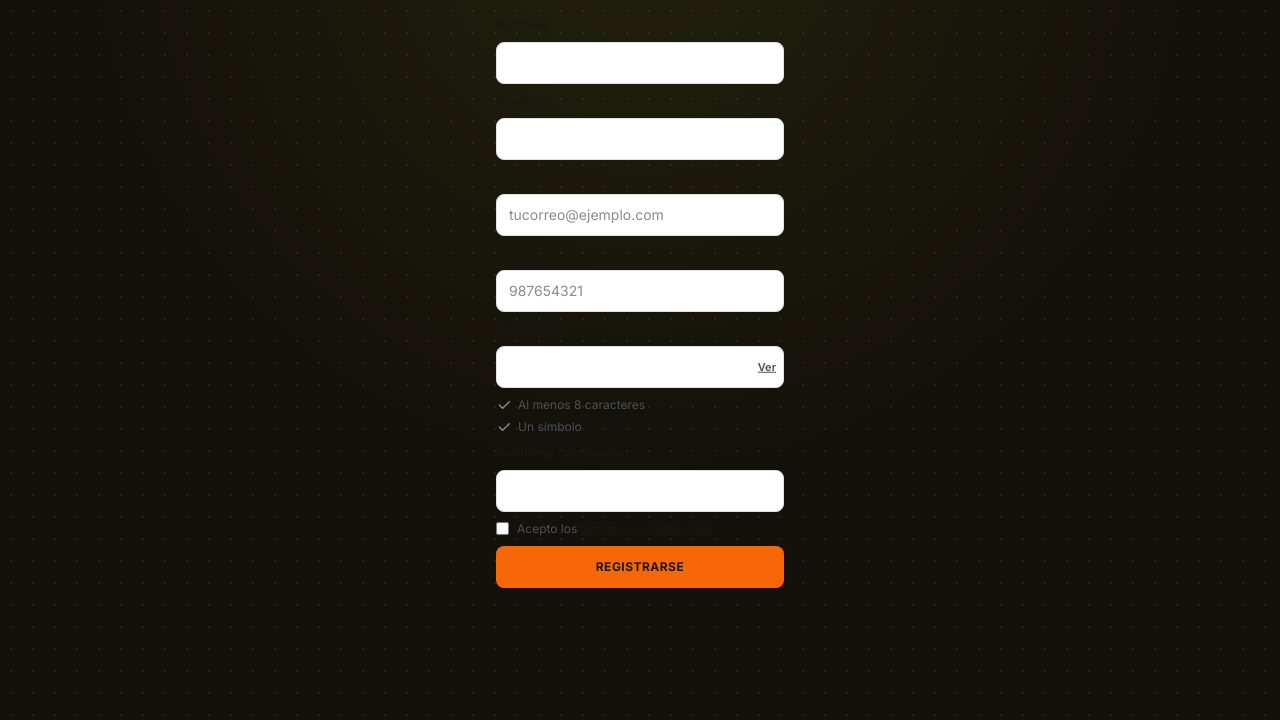
RegistroForm › bloquea el envío si la contraseña no cumple la política cargada
Type "Ana" into the field labelled "Nombres" at x=640, y=63, box [496, 42, 784, 84]
Type "Quispe" into the field labelled "Apellidos" at x=640, y=139, box [496, 118, 784, 160]
Type "ana@ejemplo.com" into the field labelled "Correo" at x=640, y=215, box [496, 194, 784, 236]
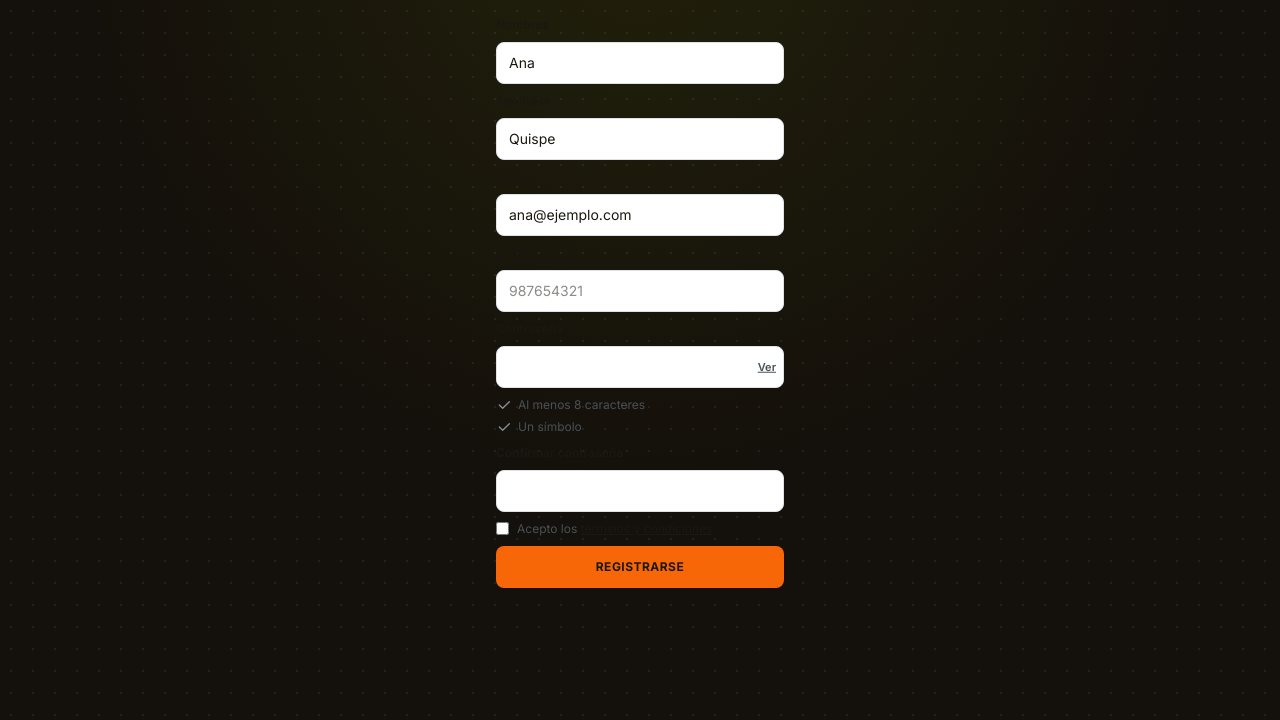
Type "+51987654321" into the field labelled "Celular" at x=640, y=291, box [496, 270, 784, 312]
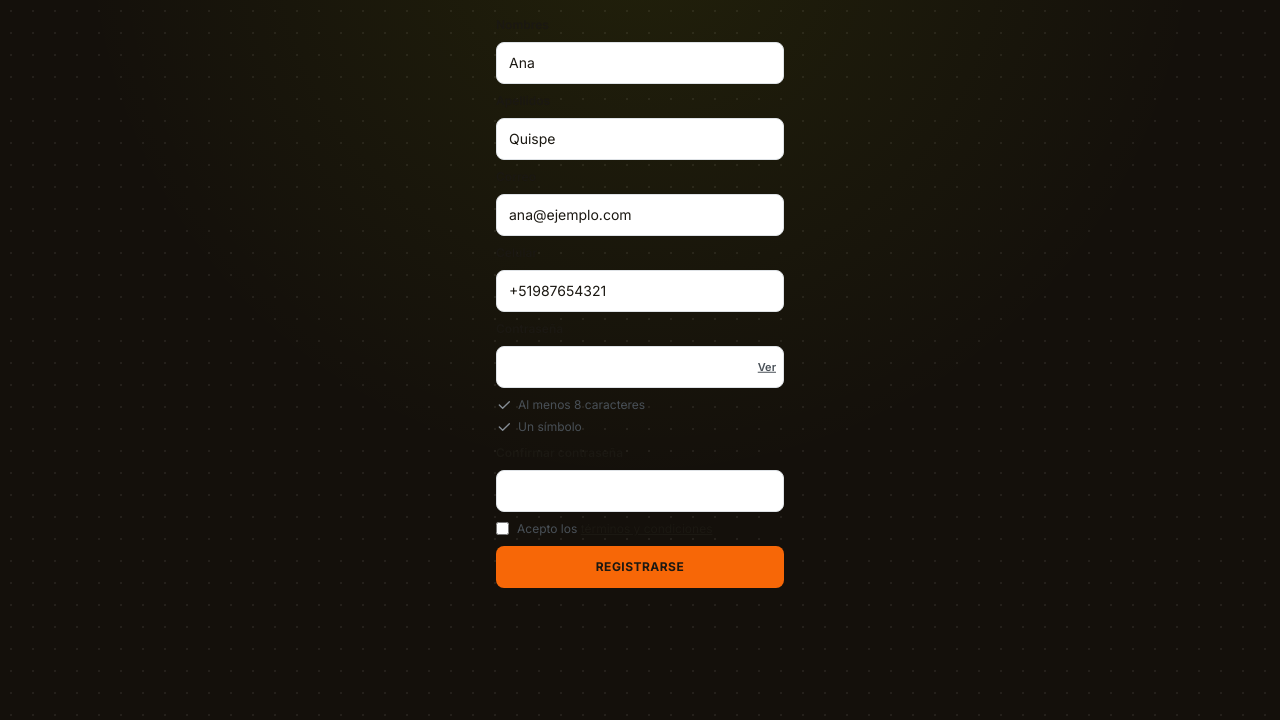
Type "secreto123" into the password field labelled "Contraseña" at x=640, y=367, box [496, 346, 784, 388]
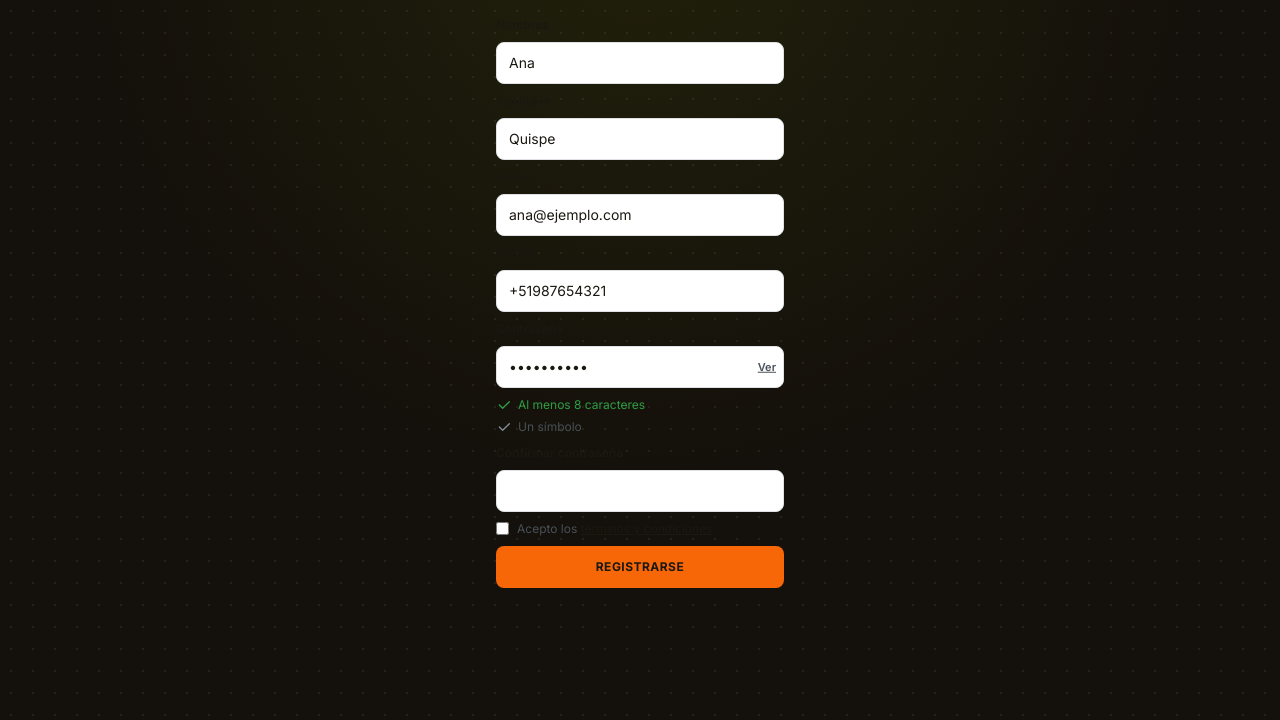
Type "secreto123" into the password field labelled "Confirmar contraseña" at x=640, y=491, box [496, 470, 784, 512]
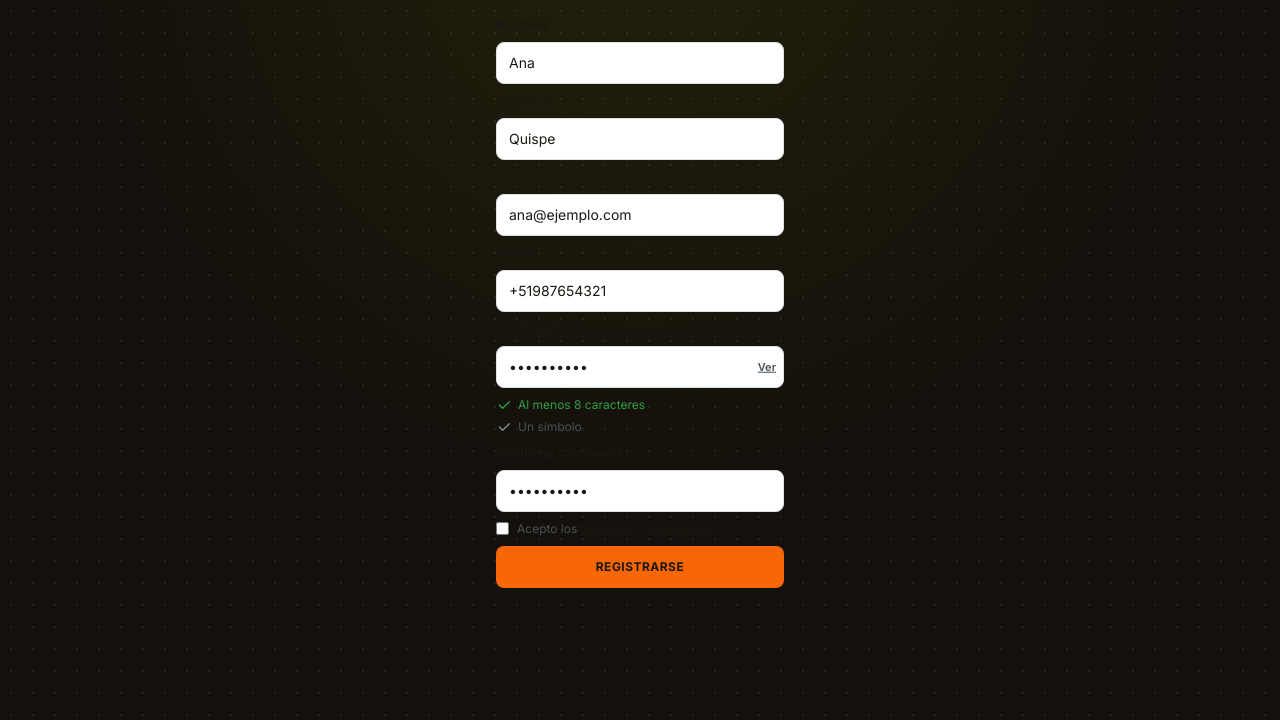
Click the checkbox labelled "Acepto los términos y condiciones" at x=502, y=528, box [496, 522, 509, 535]
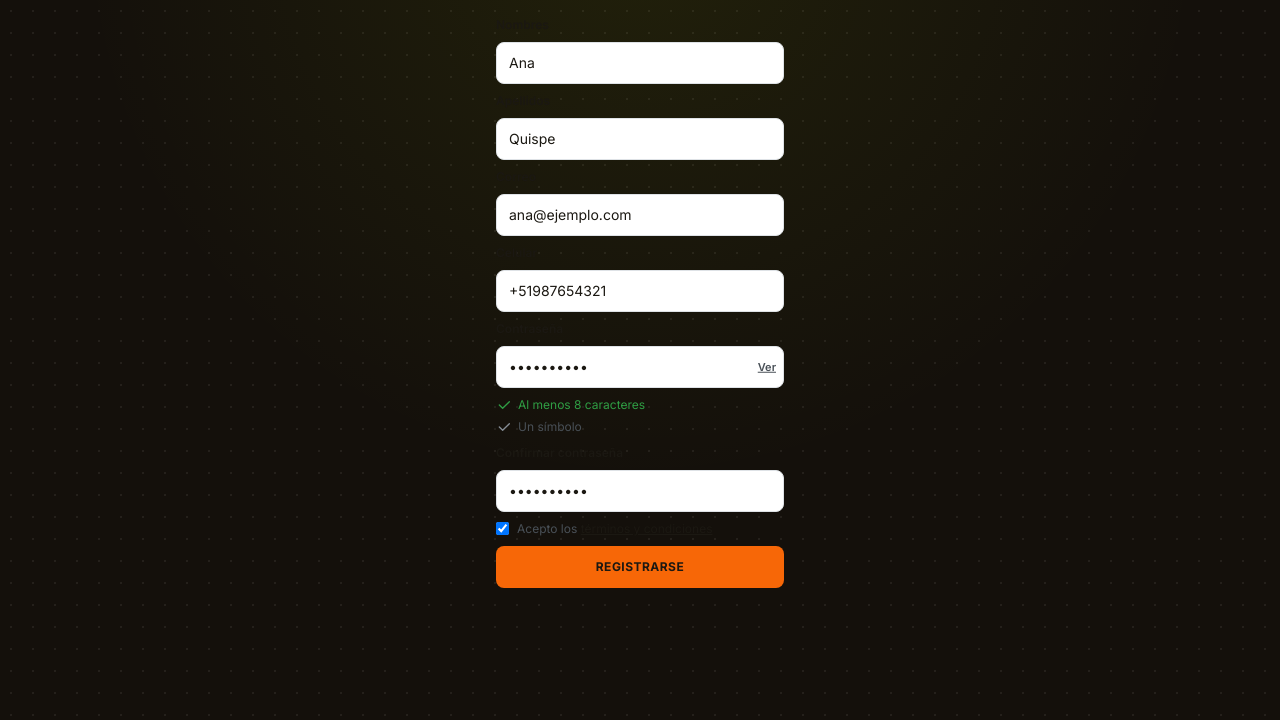
Click the button "REGISTRARSE" at x=640, y=567, box [496, 546, 784, 588]
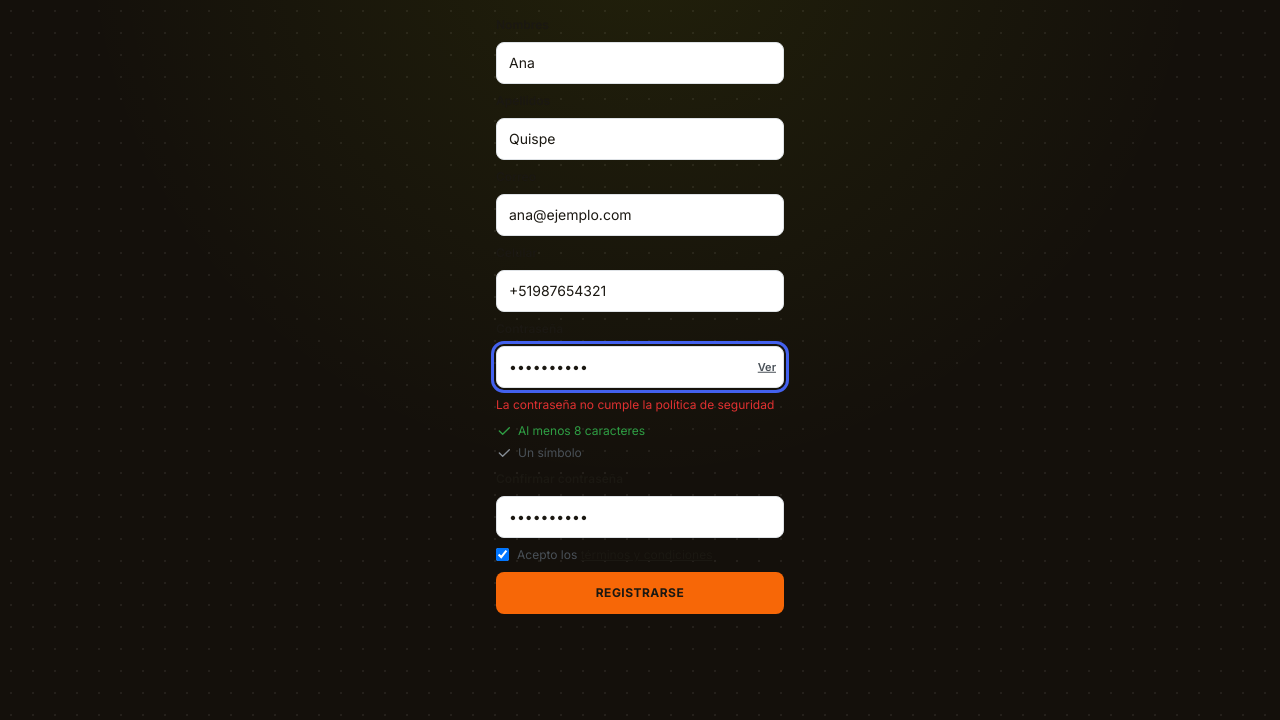
Result: the text "La contraseña no cumple la política de seguridad" is shown at [496, 396, 784, 414]
